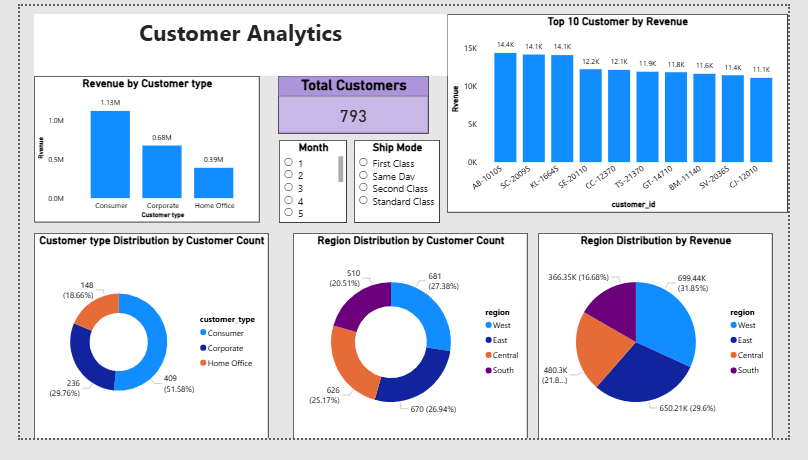

The page's visual inventory and layout, read from the dashboard file:
{"tool":"powerbi","page":{"name":"Customer","canvas":[1280,720],"ordinal":2},"visuals":[{"type":"card","title":"Total Customers","fields":{"Values":["Count(Ecommerce_sale_data.customer_id)"]},"box":[430.5,116.1,251.3,95.5],"z":0},{"type":"columnChart","title":"Revenue by Customer type","fields":{"Y":["Sum(Ecommerce_sale_data.revenue)"],"Category":["Ecommerce_sale_data.customer_type"]},"box":[23.5,115.9,376.3,243.6],"z":1000},{"type":"columnChart","title":"Top 10 Customer by Revenue","fields":{"Y":["Sum(Ecommerce_sale_data.revenue)"],"Category":["Ecommerce_sale_data.customer_id"]},"box":[712.2,13.4,567.8,330.9],"z":2000},{"type":"donutChart","title":"Customer type Distribution by Customer Count","fields":{"Y":["Count(Ecommerce_sale_data.customer_id)"],"Category":["Ecommerce_sale_data.customer_type"]},"box":[23.5,378,391.4,342.7],"z":3000},{"type":"donutChart","title":"Region Distribution by Customer Count","fields":{"Category":["Ecommerce_sale_data.region"],"Y":["Count(Ecommerce_sale_data.customer_id)"]},"box":[455.2,378,391.4,342.7],"z":4000},{"type":"pieChart","title":"Region Distribution by Revenue ","fields":{"Y":["Sum(Ecommerce_sale_data.revenue)"],"Category":["Ecommerce_sale_data.region"]},"box":[863.4,378,391.4,342.7],"z":5000},{"type":"textbox","box":[23.5,13.2,689.1,102.9],"z":6000},{"type":"listSlicer","title":"Month","fields":{"Values":["Ecommerce_sale_data.month"]},"box":[431.7,223.3,113.3,138.3],"z":6001},{"type":"listSlicer","title":"Ship Mode","fields":{"Values":["Ecommerce_sale_data.ship_mode"]},"box":[556.7,223.3,143.3,138.3],"z":6002}]}

Visuals, with their boxes in screenshot pixels (x1, y1, x2, y2), scaled from the page's 1280x720 canvas onto the 808x460 screenshot:
"Total Customers" card: crop(272, 74, 430, 135)
"Revenue by Customer type" columnChart: crop(15, 74, 252, 230)
"Top 10 Customer by Revenue" columnChart: crop(450, 9, 807, 220)
"Customer type Distribution by Customer Count" donutChart: crop(15, 241, 262, 459)
"Region Distribution by Customer Count" donutChart: crop(287, 241, 534, 459)
"Region Distribution by Revenue " pieChart: crop(545, 241, 792, 459)
textbox: crop(15, 8, 450, 74)
"Month" listSlicer: crop(273, 143, 344, 231)
"Ship Mode" listSlicer: crop(351, 143, 442, 231)
